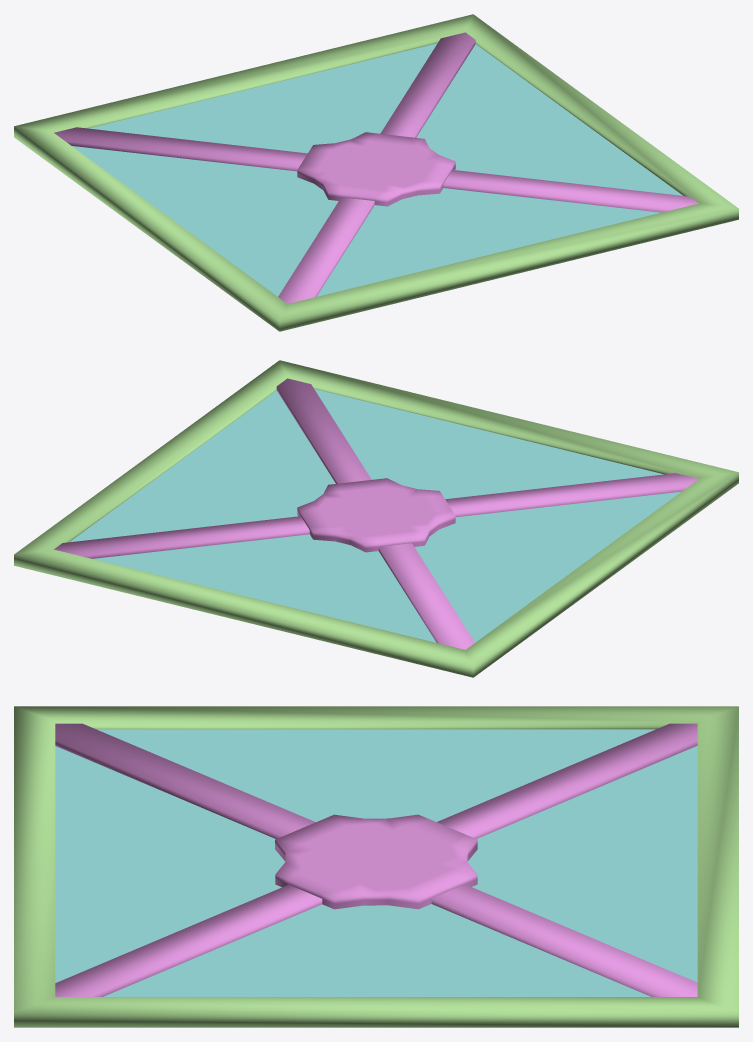
Rendered from sub_Ironplatefloor.fbx.
3 renders of one model, top to bottom at view 1: azimuth 30°, elevation 25°; view 2: azimuth 150°, elevation 25°; view 3: azimuth 270°, elevation 25°, orthographic. The views are drawn at different scales.
Visible parts, largest first — view 1: sub_Ironplatefloor; view 2: sub_Ironplatefloor; view 3: sub_Ironplatefloor.
Part boxes in pixels (x1,y1,x2,y2): sub_Ironplatefloor: [14, 14, 738, 331]; sub_Ironplatefloor: [14, 360, 738, 677]; sub_Ironplatefloor: [14, 706, 738, 1027].
Bounding box in the file's own units: 8.26 × 0.2509 × 8.27.
